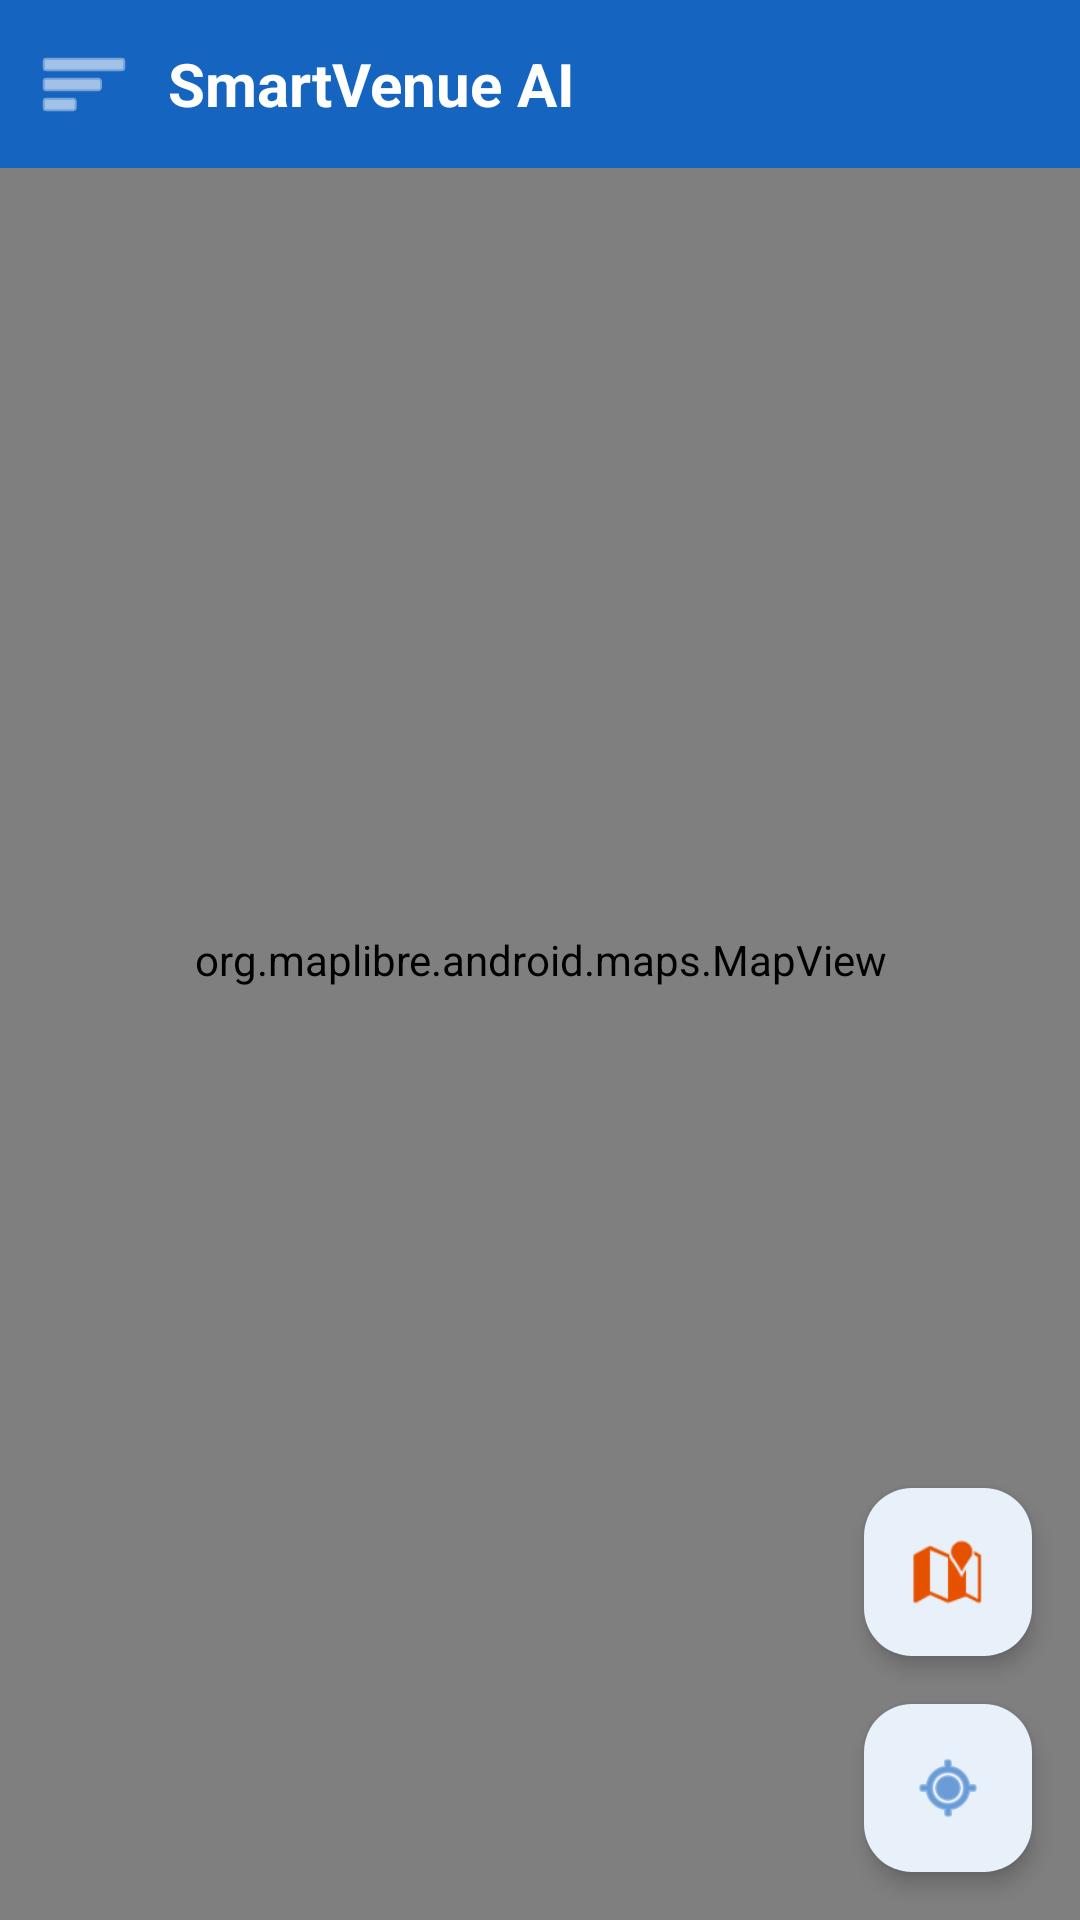

Point at icon controls on the screen. Image size 1080 x 1920, points as (x=x, y=y).
My Location: (x=948, y=1788)
Open menu: (x=84, y=84)
